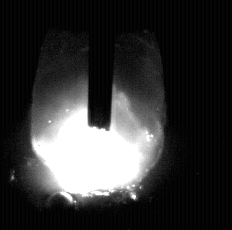arame: (89, 0, 113, 130)
poca: (30, 0, 165, 230)
